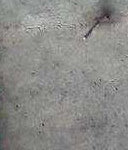Exposed reinforcement: (82, 19, 100, 40)
